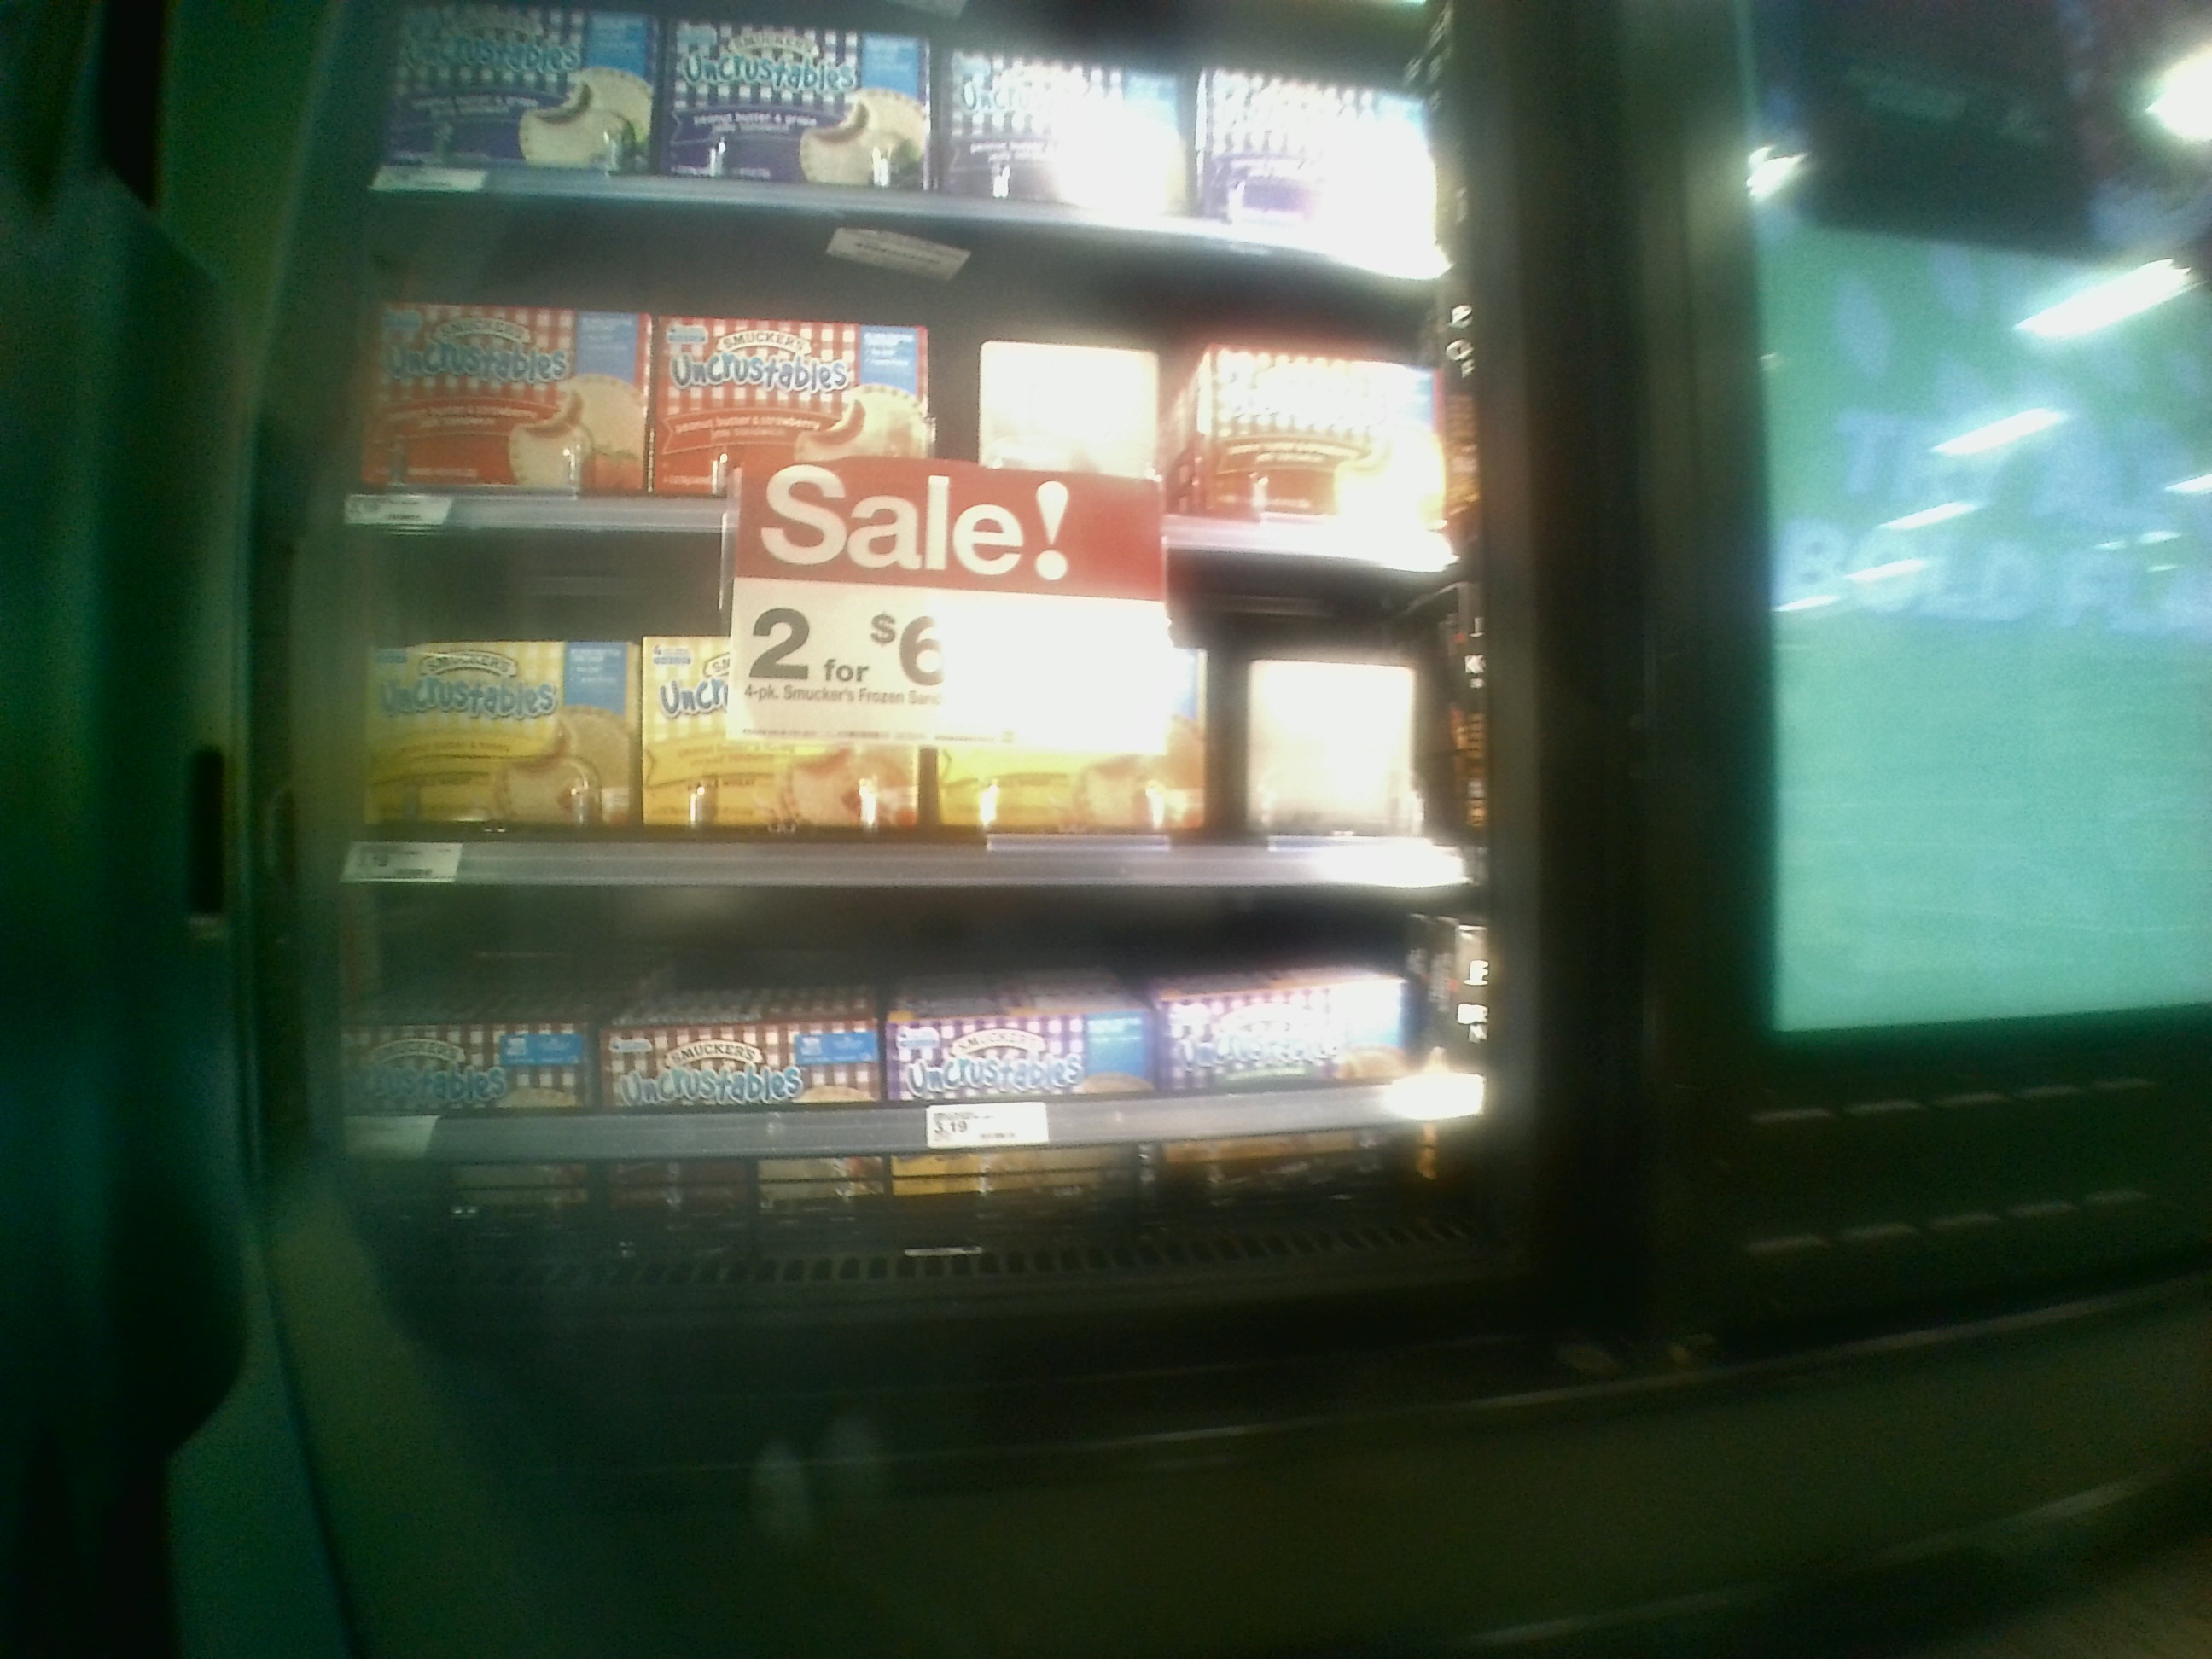shelf: (301, 887, 1484, 1262), (317, 209, 1470, 559), (303, 545, 1470, 878)
